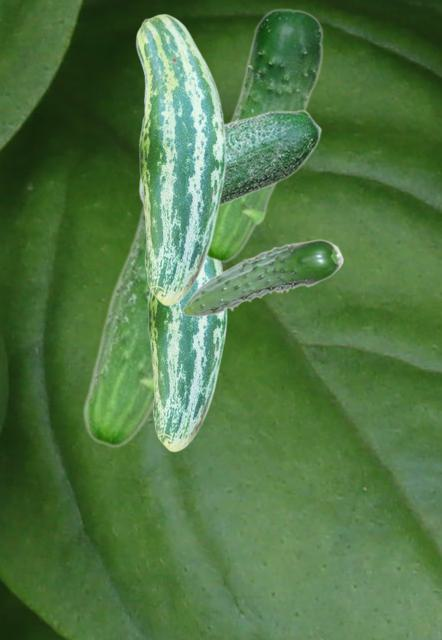cucumber: (82, 121, 228, 447), (207, 8, 323, 262), (135, 13, 225, 305), (138, 109, 321, 206), (147, 259, 226, 451), (182, 239, 343, 316)
